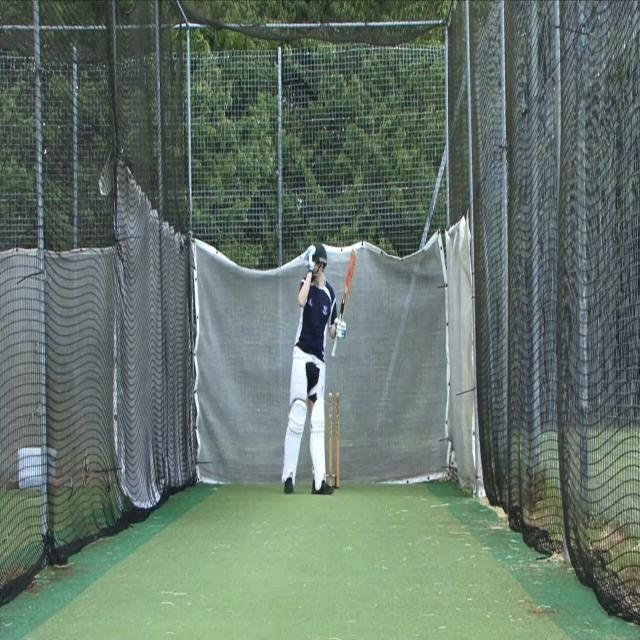batsman: (280, 240, 357, 497)
